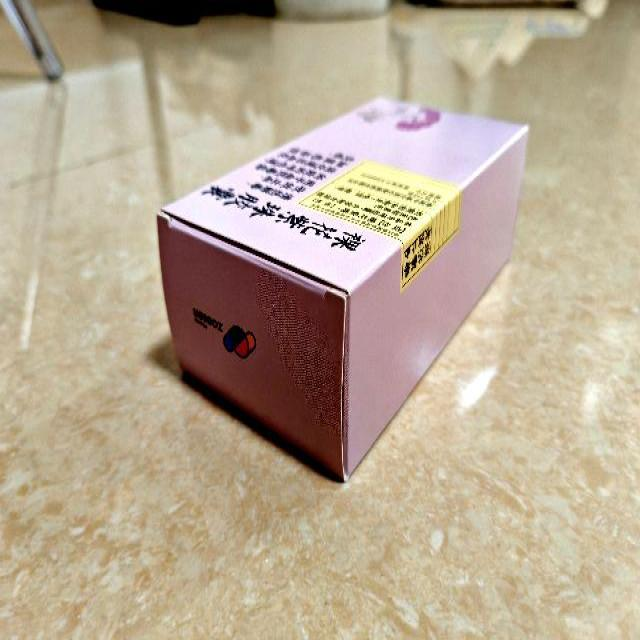box: (158, 98, 530, 484)
